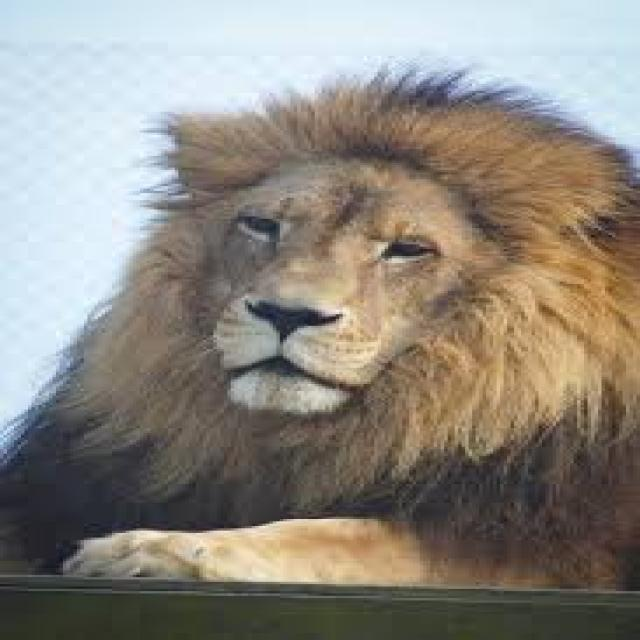Lion: (0, 62, 637, 591)
